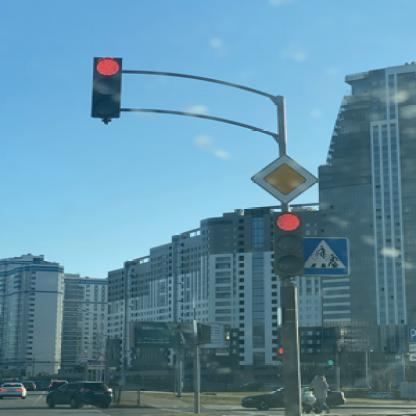crosswalk: (301, 238, 345, 275)
trafficlight: (271, 211, 302, 277), (90, 56, 119, 118)
